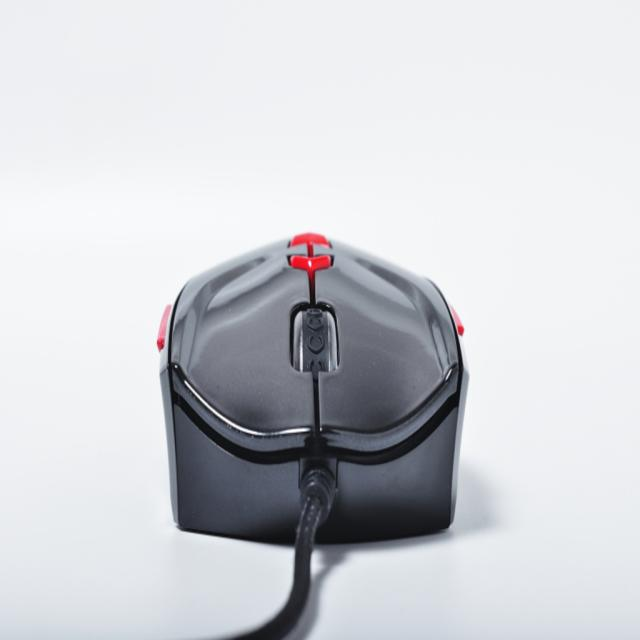Computer-mouse: (159, 220, 472, 542)
